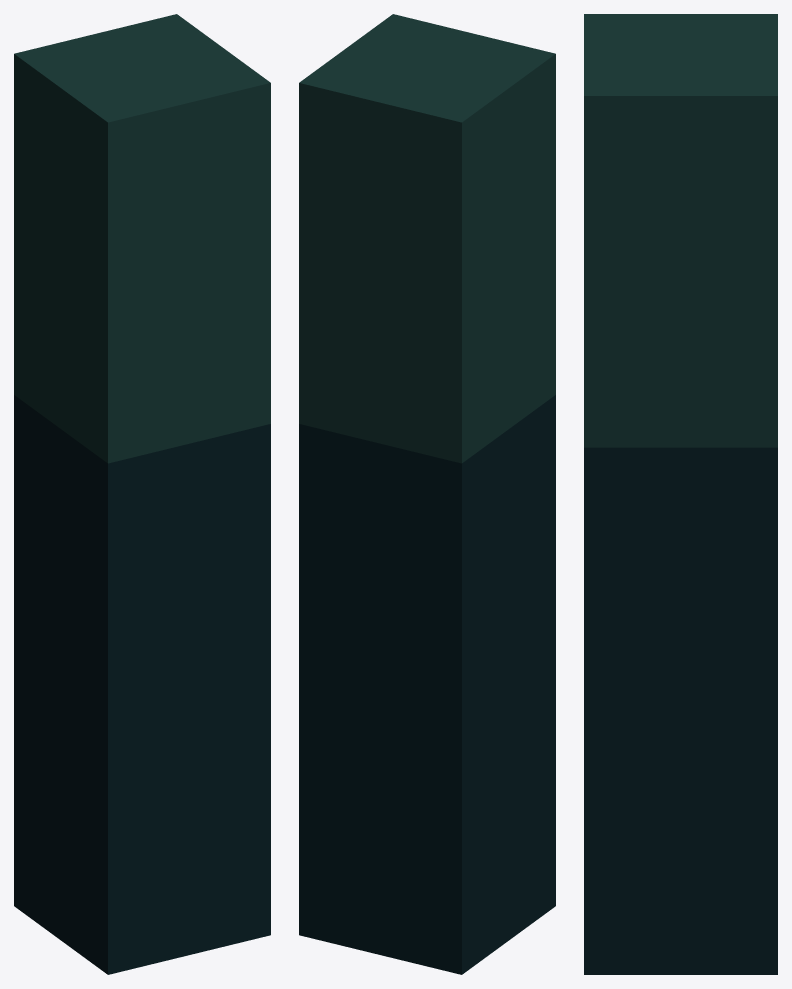
Rendered from Grass_5.glb.
3 views of the same model, side by side, from view 1: azimuth 30°, elevation 25°; view 2: azimuth 150°, elevation 25°; view 3: azimuth 270°, elevation 25° (orthographic). The views are drawn at different scales.
Parts seen in each view (by area): view 1: Grass_5; view 2: Grass_5; view 3: Grass_5.
Part boxes in pixels (left/top/right/bottom): Grass_5: left=14, top=14, right=270, bottom=974; Grass_5: left=299, top=14, right=555, bottom=974; Grass_5: left=584, top=14, right=777, bottom=974.
Bounding box in the file's own units: 0.025 × 0.125 × 0.025.
